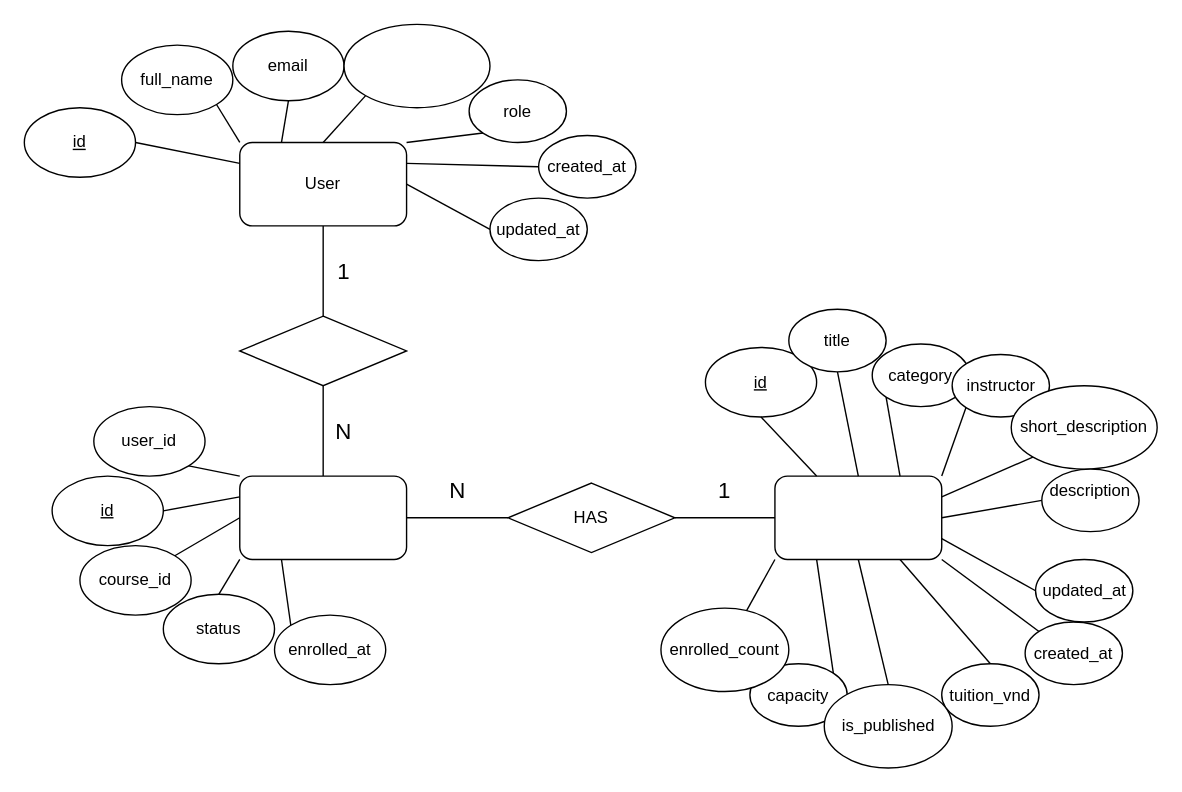
Some shapes in this 1182 by 792 pixel diagram are drawn without their labels. Here are the shapes that lost their labels. From the top down, the centre of each, then its label:
(416,65): password_hash
(322,350): REGISTERS
(322,517): ENROLLMENTS
(858,517): COURSES
